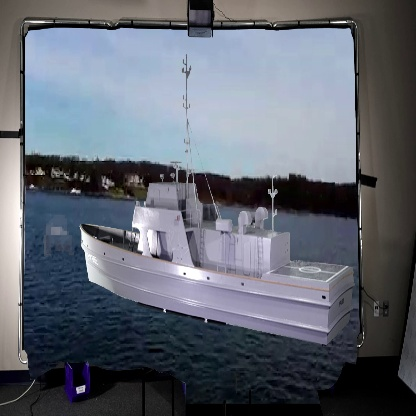YP689: (78, 61, 355, 346)
